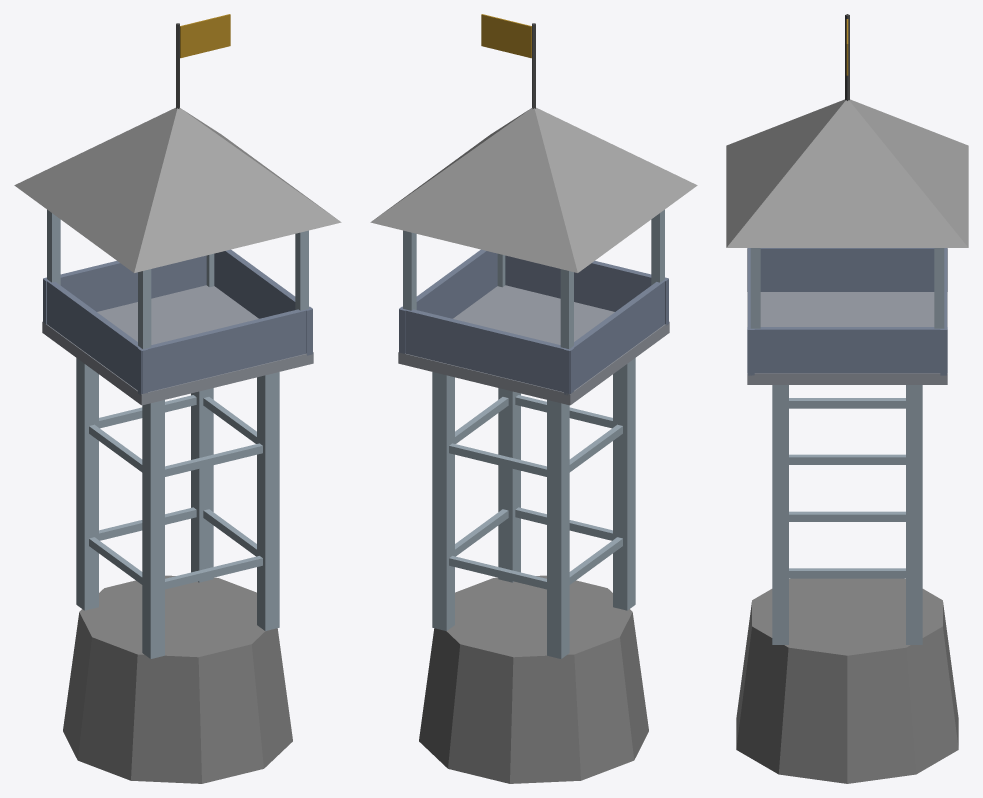
Rendered from watchtower.glb.
3 renders of one model, left to right at view 1: azimuth 30°, elevation 25°; view 2: azimuth 150°, elevation 25°; view 3: azimuth 270°, elevation 25°, orthographic.
Parts seen in each view (by area): view 1: watchtower; view 2: watchtower; view 3: watchtower.
Part boxes in pixels (x1,y1,x2,y2): watchtower: (14,14,341,783); watchtower: (370,14,697,783); watchtower: (726,14,968,783).
Bounding box in the file's own units: 2.9 × 9.5 × 2.9.
